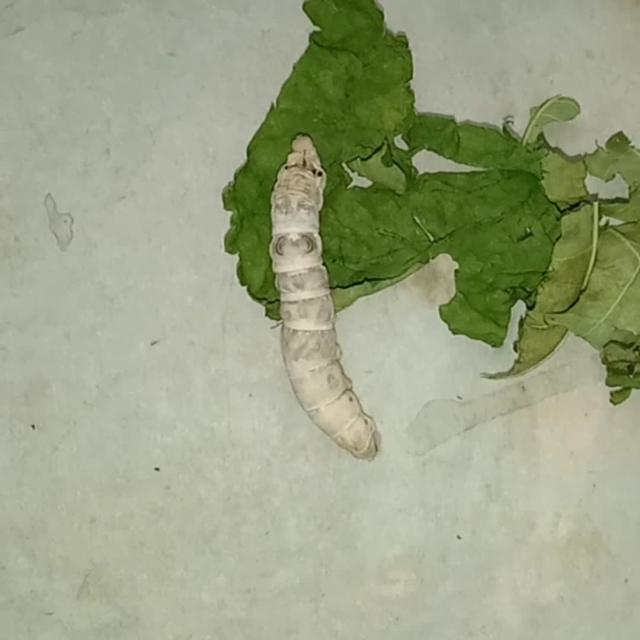Grasserie: (250, 110, 422, 478)
